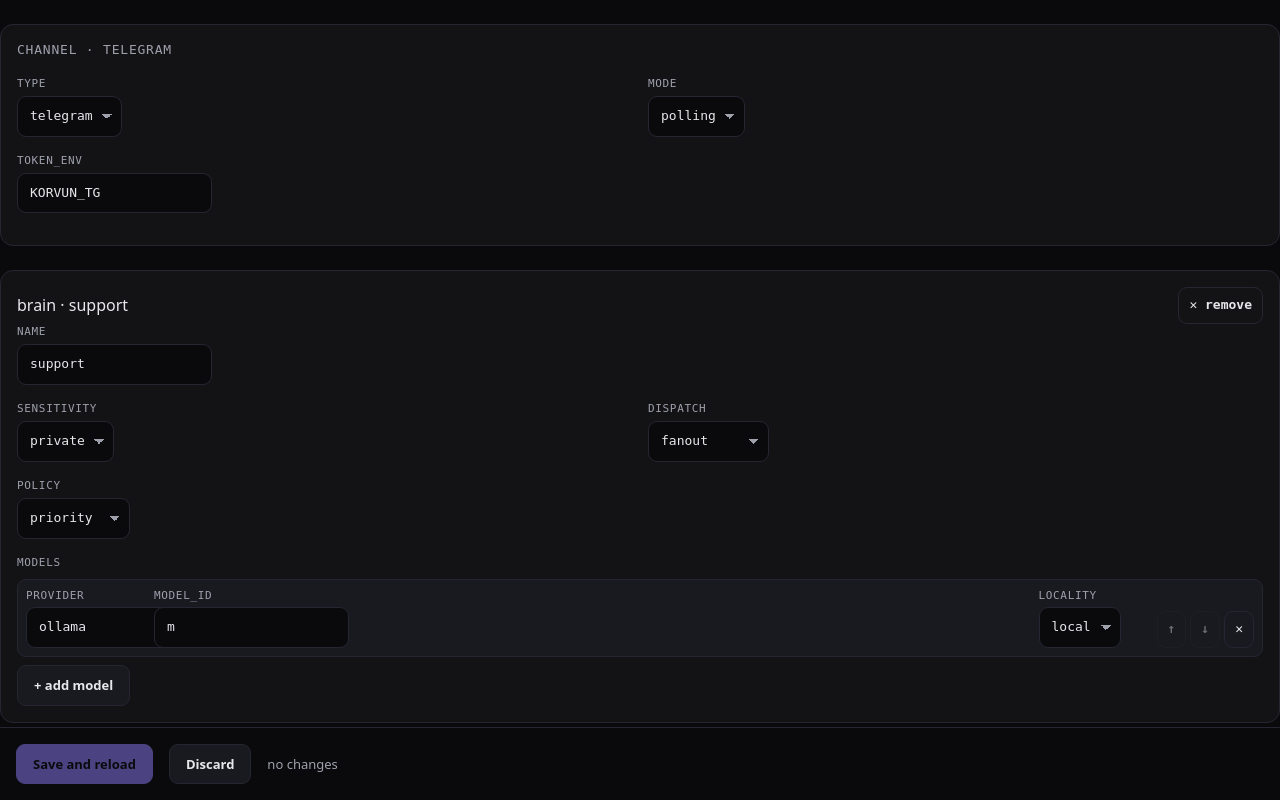
Test: ConfigEditor — error/edge states (2b.2c) › dirty + Discard asks for confirmation and reverts to the baseline
Replace the text in the field labelled "name" with "support-v2" at (114, 365), box x1=17 y1=344 x2=212 y2=385
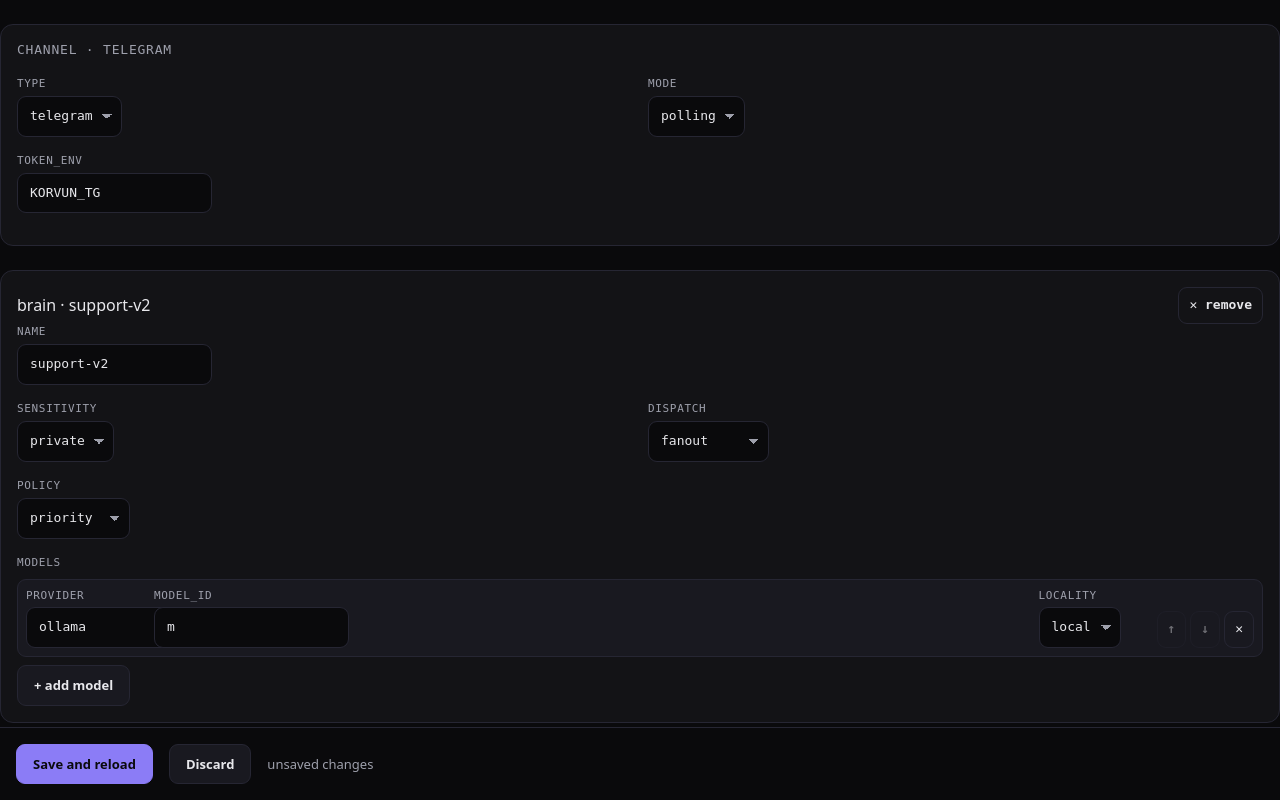
Result: the button "Save and reload" is enabled at x1=16 y1=743 x2=153 y2=784
Click the button "Discard".
click(210, 764)  # box x1=169 y1=743 x2=251 y2=784
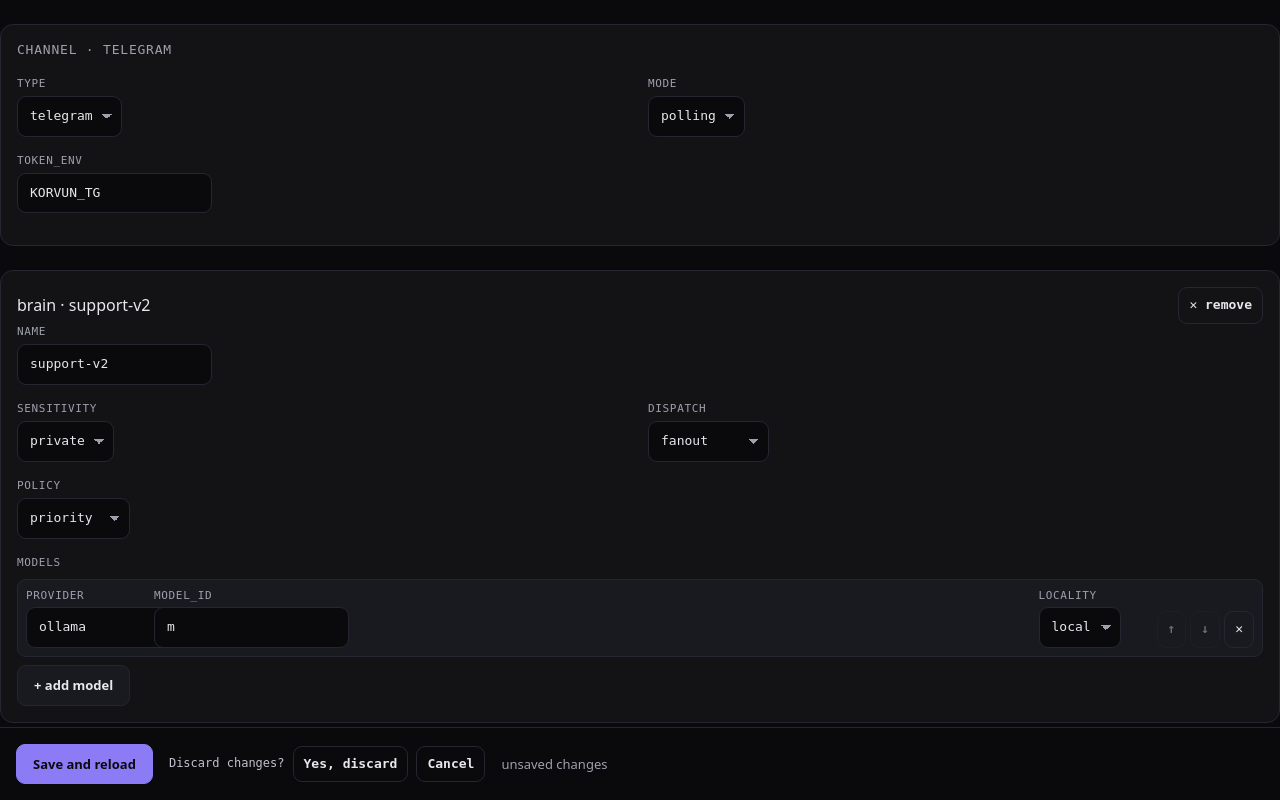
Result: the element with test id "discard-confirm" is shown at x1=169 y1=745 x2=485 y2=782
Click the button "Yes, discard".
click(350, 764)  # box x1=292 y1=745 x2=408 y2=782
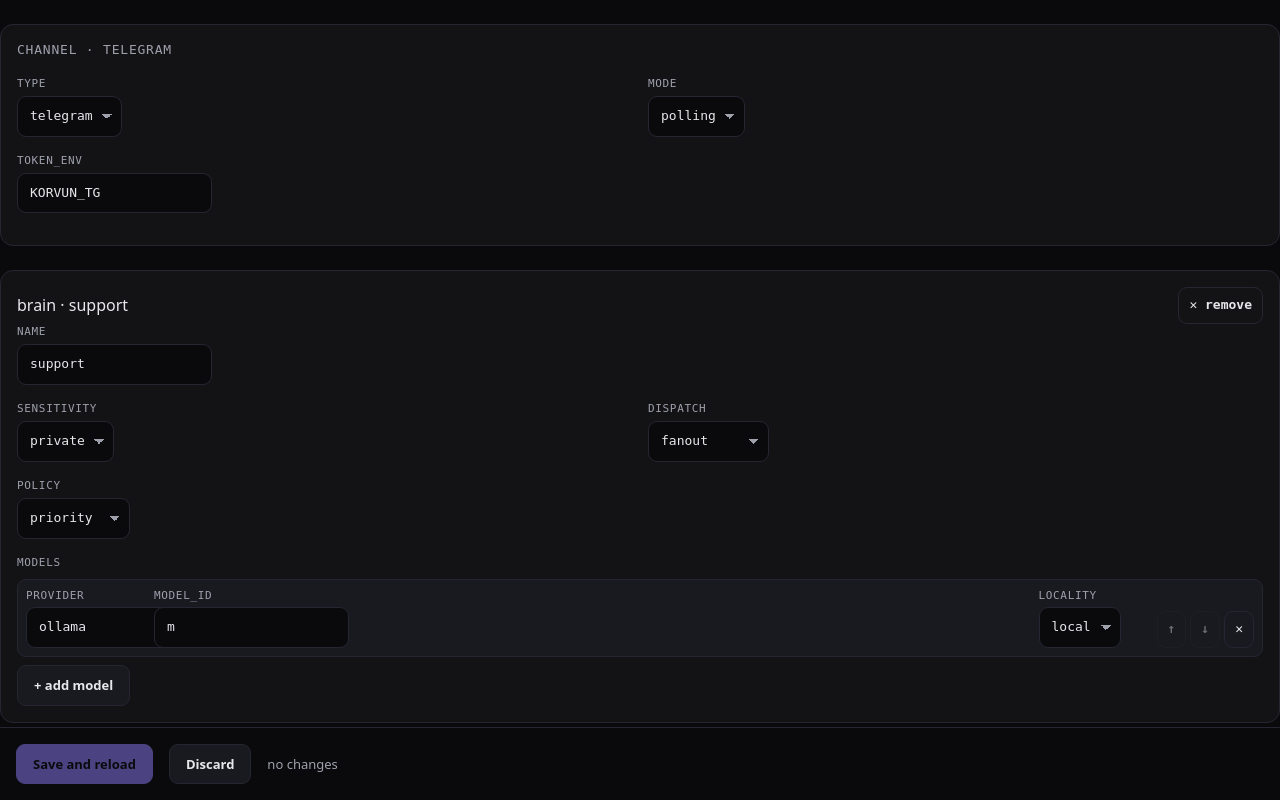
Result: the button "Save and reload" is disabled at x1=16 y1=743 x2=153 y2=784
Result: the field labelled "name" holds "support" at x1=17 y1=344 x2=212 y2=385
